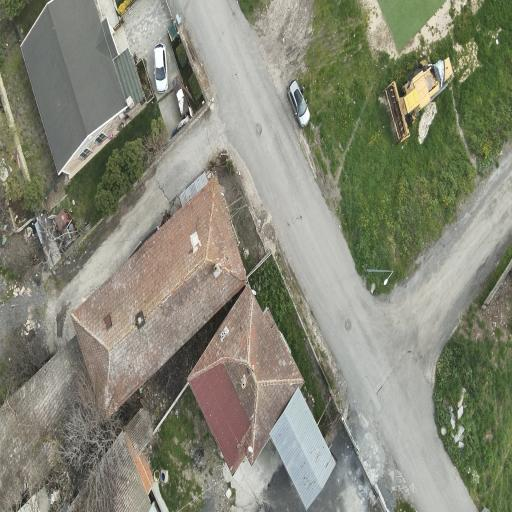car: (287, 80, 308, 126), (153, 43, 167, 92)
harvester: (385, 57, 451, 142)
